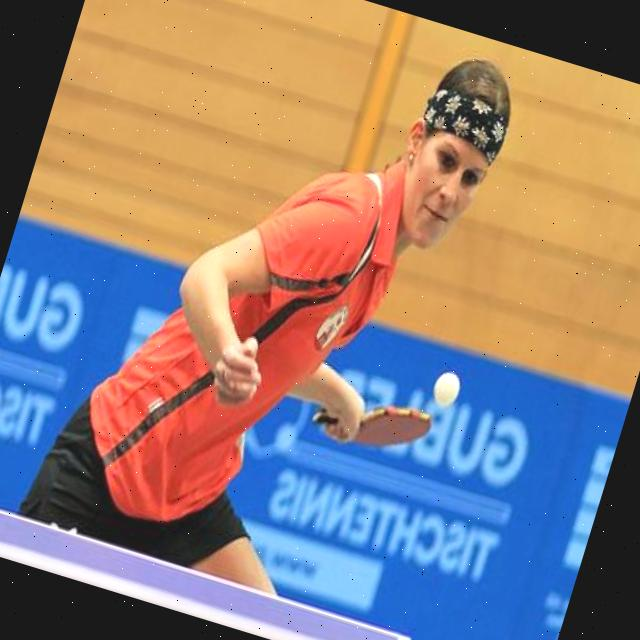ping-pong-ball: (427, 366, 463, 410)
